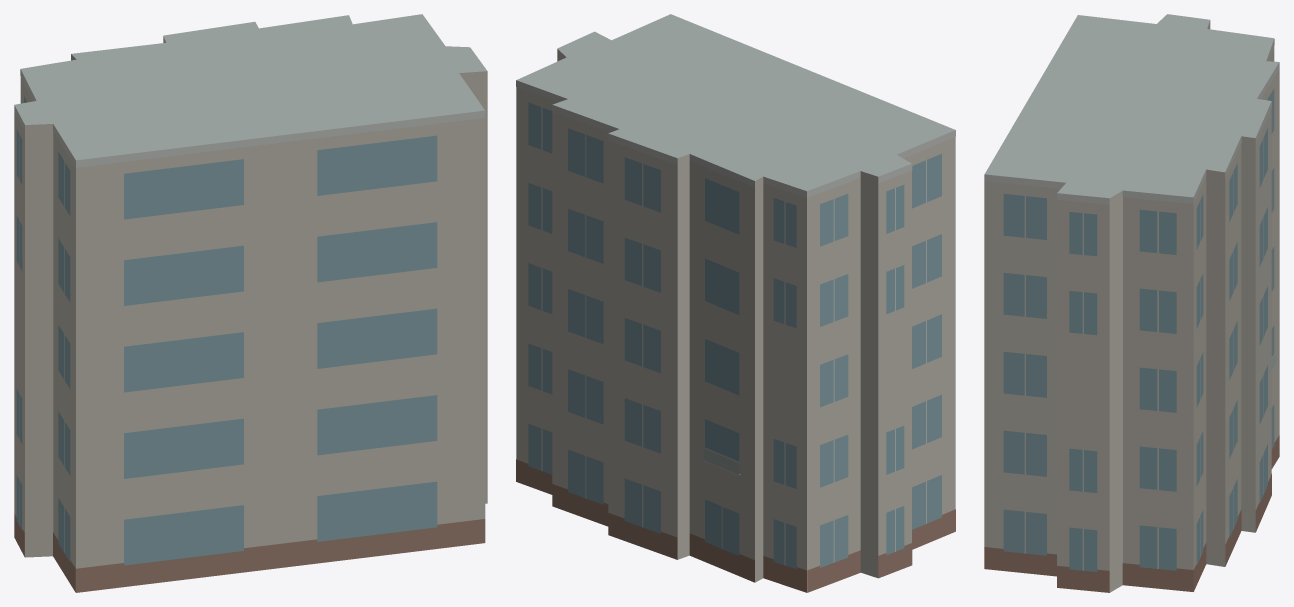
The model's file is survey-upis-32894373.glb.
The picture shows the model from 3 angles, left to right: view 1: azimuth 30°, elevation 25°; view 2: azimuth 150°, elevation 25°; view 3: azimuth 270°, elevation 25°; orthographic projection. The views are drawn at different scales.
Parts seen in each view (by area): view 1: survey-upis-32894373.tmp; view 2: survey-upis-32894373.tmp; view 3: survey-upis-32894373.tmp.
Boxes of the visible parts, left/top/right/bottom form: survey-upis-32894373.tmp: left=14, top=14, right=487, bottom=592; survey-upis-32894373.tmp: left=516, top=14, right=955, bottom=592; survey-upis-32894373.tmp: left=984, top=14, right=1279, bottom=592.
Size of the model in its own units: 14.53 by 14.5 by 9.84.
